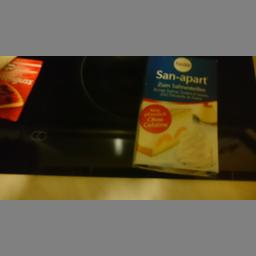cake: (132, 53, 222, 176)
